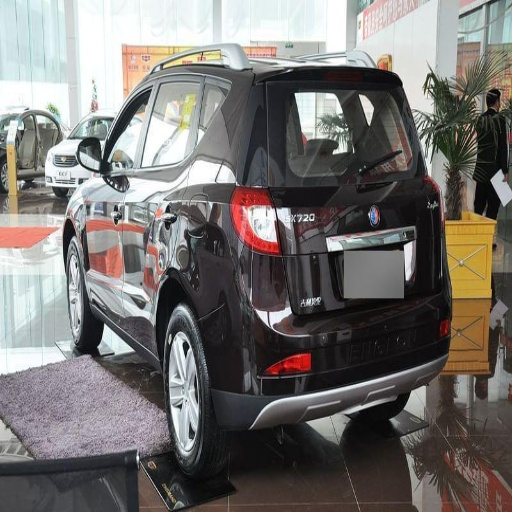back_bumper: (217, 252, 447, 430)
back_glass: (249, 81, 410, 180)
back_left_door: (128, 79, 195, 274)
tailgate: (266, 165, 431, 313)
trunk: (352, 297, 427, 338)
